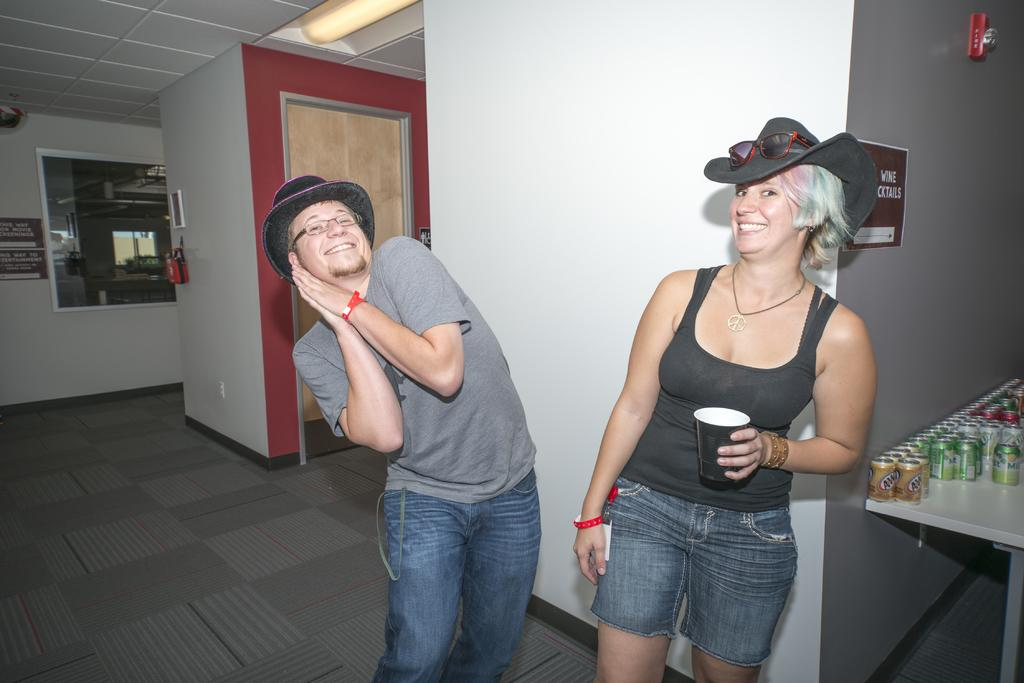Hat: (702, 114, 882, 248), (262, 172, 373, 286)
